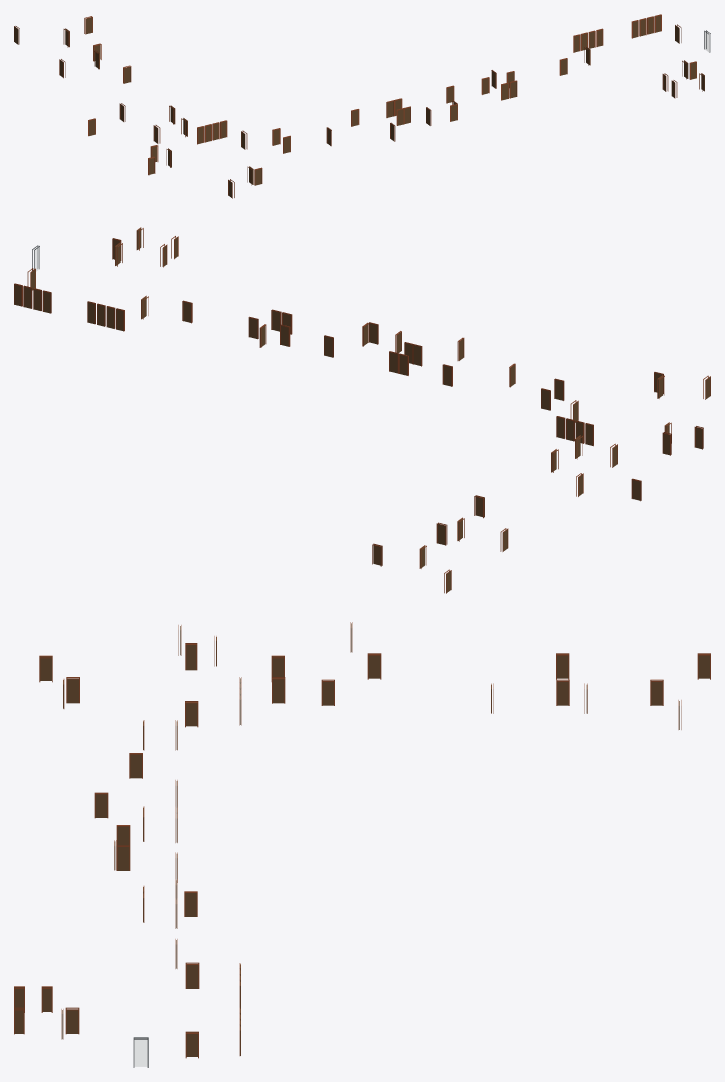
File: insaat_revit_test_erisim.ifc.ifc.ifc_96.5 Dekanlık- D200_IfcDoor.dae
The picture shows the model from 3 angles, top to bottom: view 1: azimuth 30°, elevation 25°; view 2: azimuth 150°, elevation 25°; view 3: azimuth 270°, elevation 25°; orthographic projection. The views are drawn at different scales.
Bounding box in the file's own units: 76.38 × 53.44 × 2.48.
